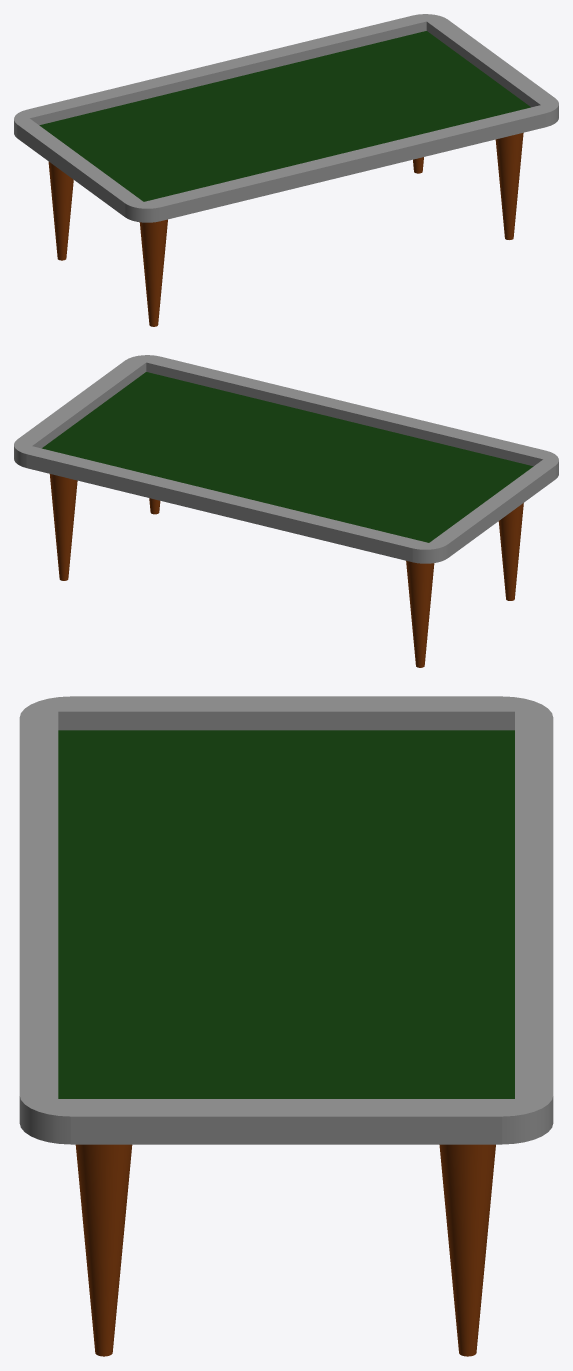
File: Pool Table.obj
3 renders of one model, top to bottom at view 1: azimuth 30°, elevation 25°; view 2: azimuth 150°, elevation 25°; view 3: azimuth 270°, elevation 25°, orthographic. The views are drawn at different scales.
Visible parts, largest first — view 1: Rectangle003, Rectangle004, Cone004, Cone001, Cone003; view 2: Rectangle003, Rectangle004, Cone003, Cone002, Cone004; view 3: Rectangle003, Rectangle004, Cone002, Cone001.
Boxes of the visible parts, left/top/right/bottom form: Rectangle003: left=39, top=31, right=530, bottom=201; Rectangle004: left=14, top=14, right=558, bottom=222; Cone004: left=139, top=219, right=167, bottom=326; Cone001: left=495, top=132, right=523, bottom=239; Cone003: left=48, top=162, right=73, bottom=260; Rectangle003: left=42, top=372, right=533, bottom=542; Rectangle004: left=14, top=355, right=558, bottom=563; Cone003: left=406, top=561, right=434, bottom=667; Cone002: left=49, top=474, right=77, bottom=580; Cone004: left=498, top=503, right=523, bottom=600; Rectangle003: left=58, top=730, right=514, bottom=1098; Rectangle004: left=19, top=696, right=553, bottom=1144; Cone002: left=439, top=1144, right=495, bottom=1356; Cone001: left=75, top=1144, right=132, bottom=1356.
Size of the model in its own units: 387 by 117 by 208.
